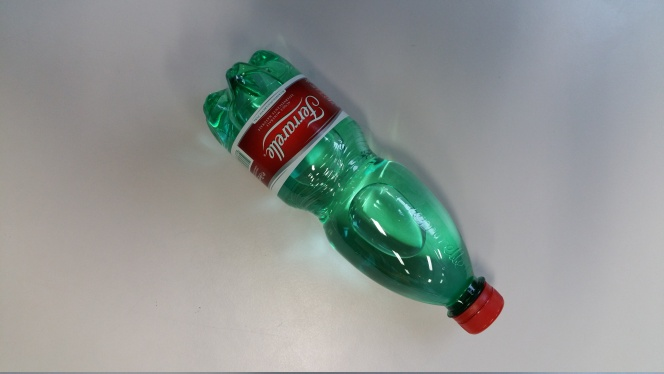bottle: (191, 36, 506, 333)
